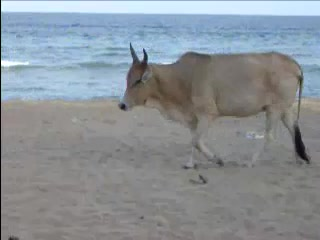cow: (119, 45, 312, 169)
